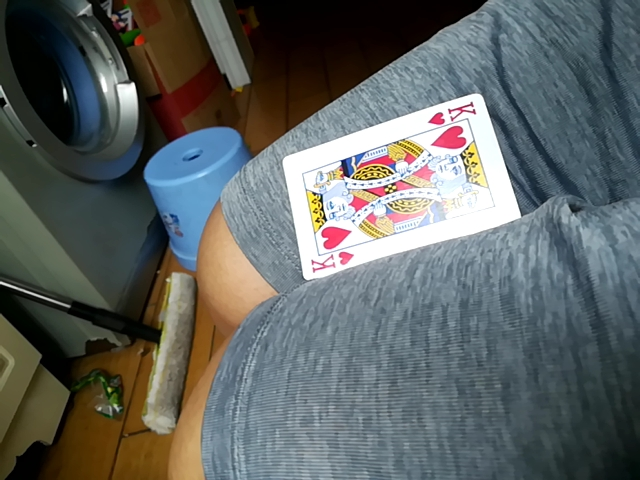hx k: (283, 94, 519, 284)
